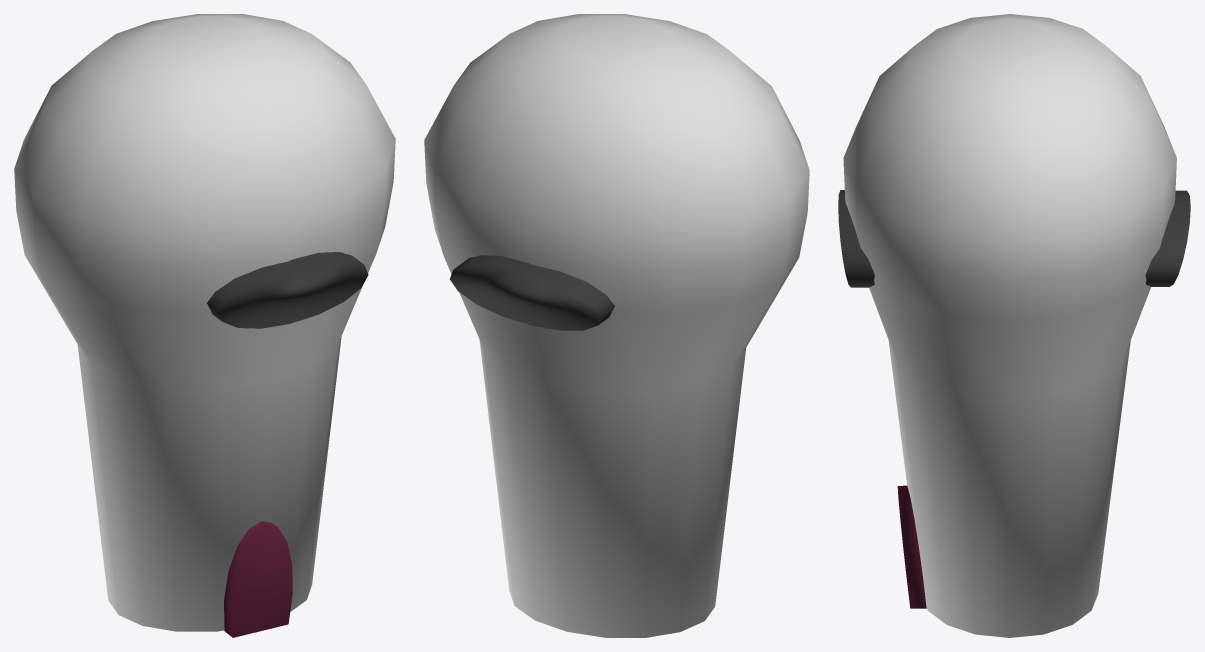
The model's file is top_heavy_building.fbx.
3 views of the same model, side by side, from view 1: azimuth 30°, elevation 25°; view 2: azimuth 150°, elevation 25°; view 3: azimuth 270°, elevation 25° (orthographic). The views are drawn at different scales.
Visible parts, largest first — view 1: Cylinder, Cylinder.002, Cylinder.001; view 2: Cylinder, Cylinder.002; view 3: Cylinder, Cylinder.002, Cylinder.001.
Part boxes in pixels (left/top/right/bottom): Cylinder: left=14, top=14, right=395, bottom=631; Cylinder.002: left=207, top=252, right=368, bottom=328; Cylinder.001: left=224, top=521, right=292, bottom=637; Cylinder: left=424, top=14, right=809, bottom=637; Cylinder.002: left=450, top=255, right=614, bottom=330; Cylinder: left=843, top=14, right=1176, bottom=637; Cylinder.002: left=838, top=190, right=1190, bottom=287; Cylinder.001: left=897, top=485, right=926, bottom=608.
Bounding box in the file's own units: 1719 × 2669 × 1554.
